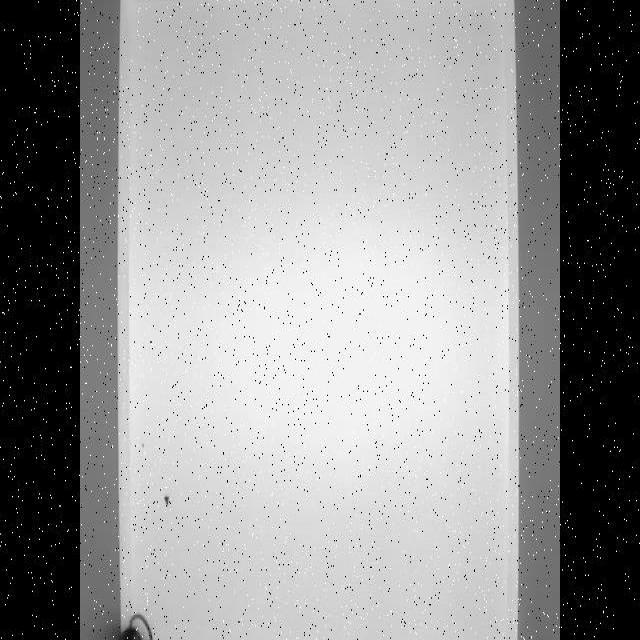rat: (112, 608, 156, 640)
